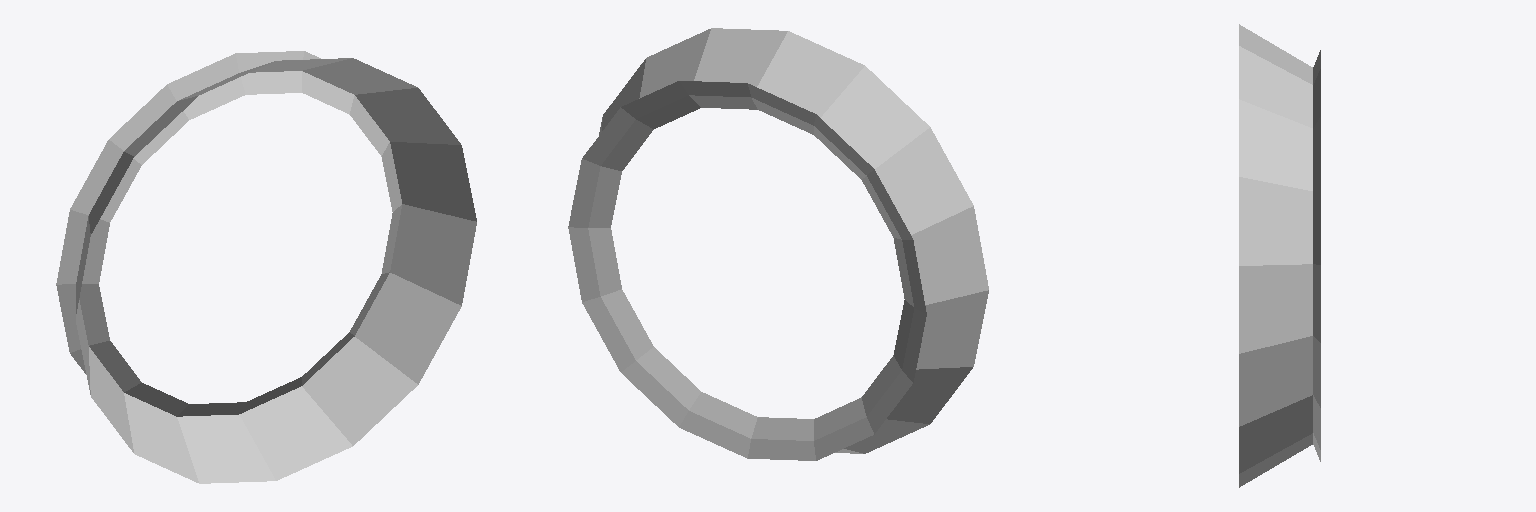
The model's file is level1.obj.
3 renders of one model, left to right at view 1: azimuth 30°, elevation 25°; view 2: azimuth 150°, elevation 25°; view 3: azimuth 270°, elevation 25°, orthographic.
Parts seen in each view (by area): view 1: Circle; view 2: Circle; view 3: Circle.
Boxes of the visible parts, <box> form: Circle: <box>56,51,476,483</box>; Circle: <box>568,28,988,460</box>; Circle: <box>1239,24,1320,487</box>.
Bounding box in the file's own units: 1.25 × 1.25 × 0.2197.